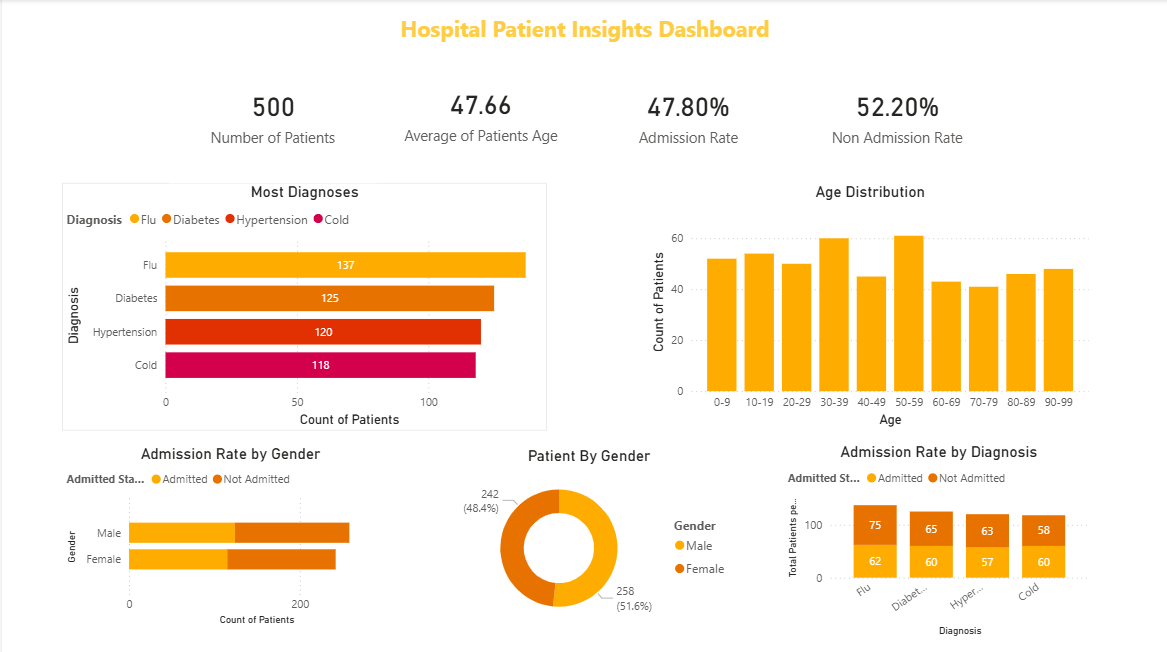

The page's visual inventory and layout, read from the dashboard file:
{"tool":"powerbi","page":{"name":"Page 1","canvas":[1280,720],"ordinal":0},"visuals":[{"type":"textbox","box":[0,11.4,1280,54.3],"z":0},{"type":"card","fields":{"Values":["hospital_patients.Admission Rate"]},"box":[640,52.9,228.6,148.6],"z":1000},{"type":"barChart","title":"Most Diagnoses","fields":{"Category":["hospital_patients.Diagnosis"],"Y":["CountNonNull(hospital_patients.Patient_ID)"],"Series":["hospital_patients.Diagnosis"]},"box":[65.7,201.4,532.9,272.9],"z":2000},{"type":"donutChart","title":"Patient By Gender","fields":{"Category":["hospital_patients.Gender"],"Y":["CountNonNull(hospital_patients.Patient_ID)"]},"box":[480,491.4,328.6,204.3],"z":3000},{"type":"barChart","title":"Admission Rate by Gender","fields":{"Category":["hospital_patients.Gender"],"Y":["CountNonNull(hospital_patients.Patient_ID)"],"Series":["hospital_patients.Status Rawat"]},"box":[65.7,488.6,370,204.3],"z":4000},{"type":"card","fields":{"Values":["CountNonNull(hospital_patients.Patient_ID)"]},"box":[184.3,52.9,227.1,148.6],"z":5000},{"type":"columnChart","title":"Admission Rate by Diagnosis","fields":{"Category":["hospital_patients.Diagnosis"],"Y":["CountNonNull(hospital_patients.Patient_ID)"],"Series":["hospital_patients.Status Rawat"]},"box":[857.1,487.1,341.4,217.1],"z":6000},{"type":"card","fields":{"Values":["Avg(hospital_patients.Age)"]},"box":[411.4,51.4,228.6,150],"z":7000},{"type":"card","fields":{"Values":["hospital_patients.Discharge Rate"]},"box":[868.6,52.9,228.6,147.1],"z":8000},{"type":"clusteredColumnChart","title":"Age Distribution","fields":{"Category":["hospital_patients.Age (groups)"],"Y":["CountNonNull(hospital_patients.Patient_ID)"]},"box":[708.6,201.4,490,272.9],"z":9000}]}

Visuals, with their boxes in screenshot pixels (x1, y1, x2, y2), scaled from the page's 1280x720 canvas onto the 1167x652 screenshot:
textbox: 0/10/1166/59
card - hospital_patients.Admission Rate: 584/48/792/182
"Most Diagnoses" barChart: 60/182/546/430
"Patient By Gender" donutChart: 438/445/737/630
"Admission Rate by Gender" barChart: 60/442/397/627
card - CountNonNull(hospital_patients.Patient_ID): 168/48/375/182
"Admission Rate by Diagnosis" columnChart: 781/441/1093/638
card - Avg(hospital_patients.Age): 375/47/584/182
card - hospital_patients.Discharge Rate: 792/48/1000/181
"Age Distribution" clusteredColumnChart: 646/182/1093/430
